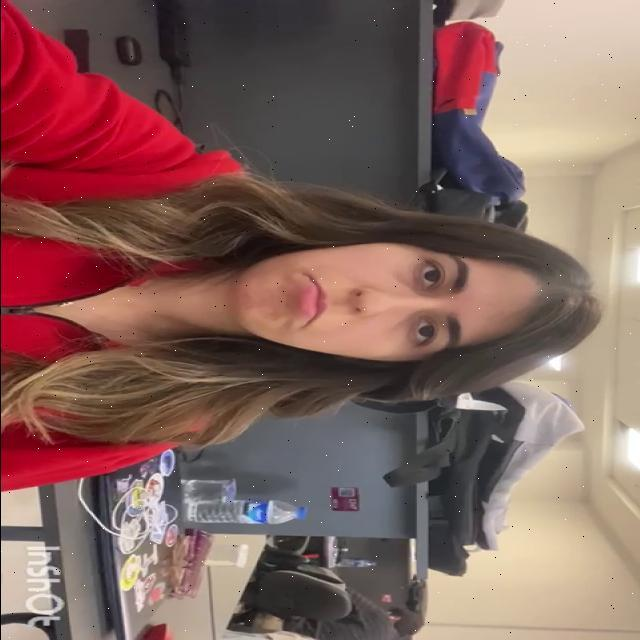sad: (235, 242, 516, 360)
